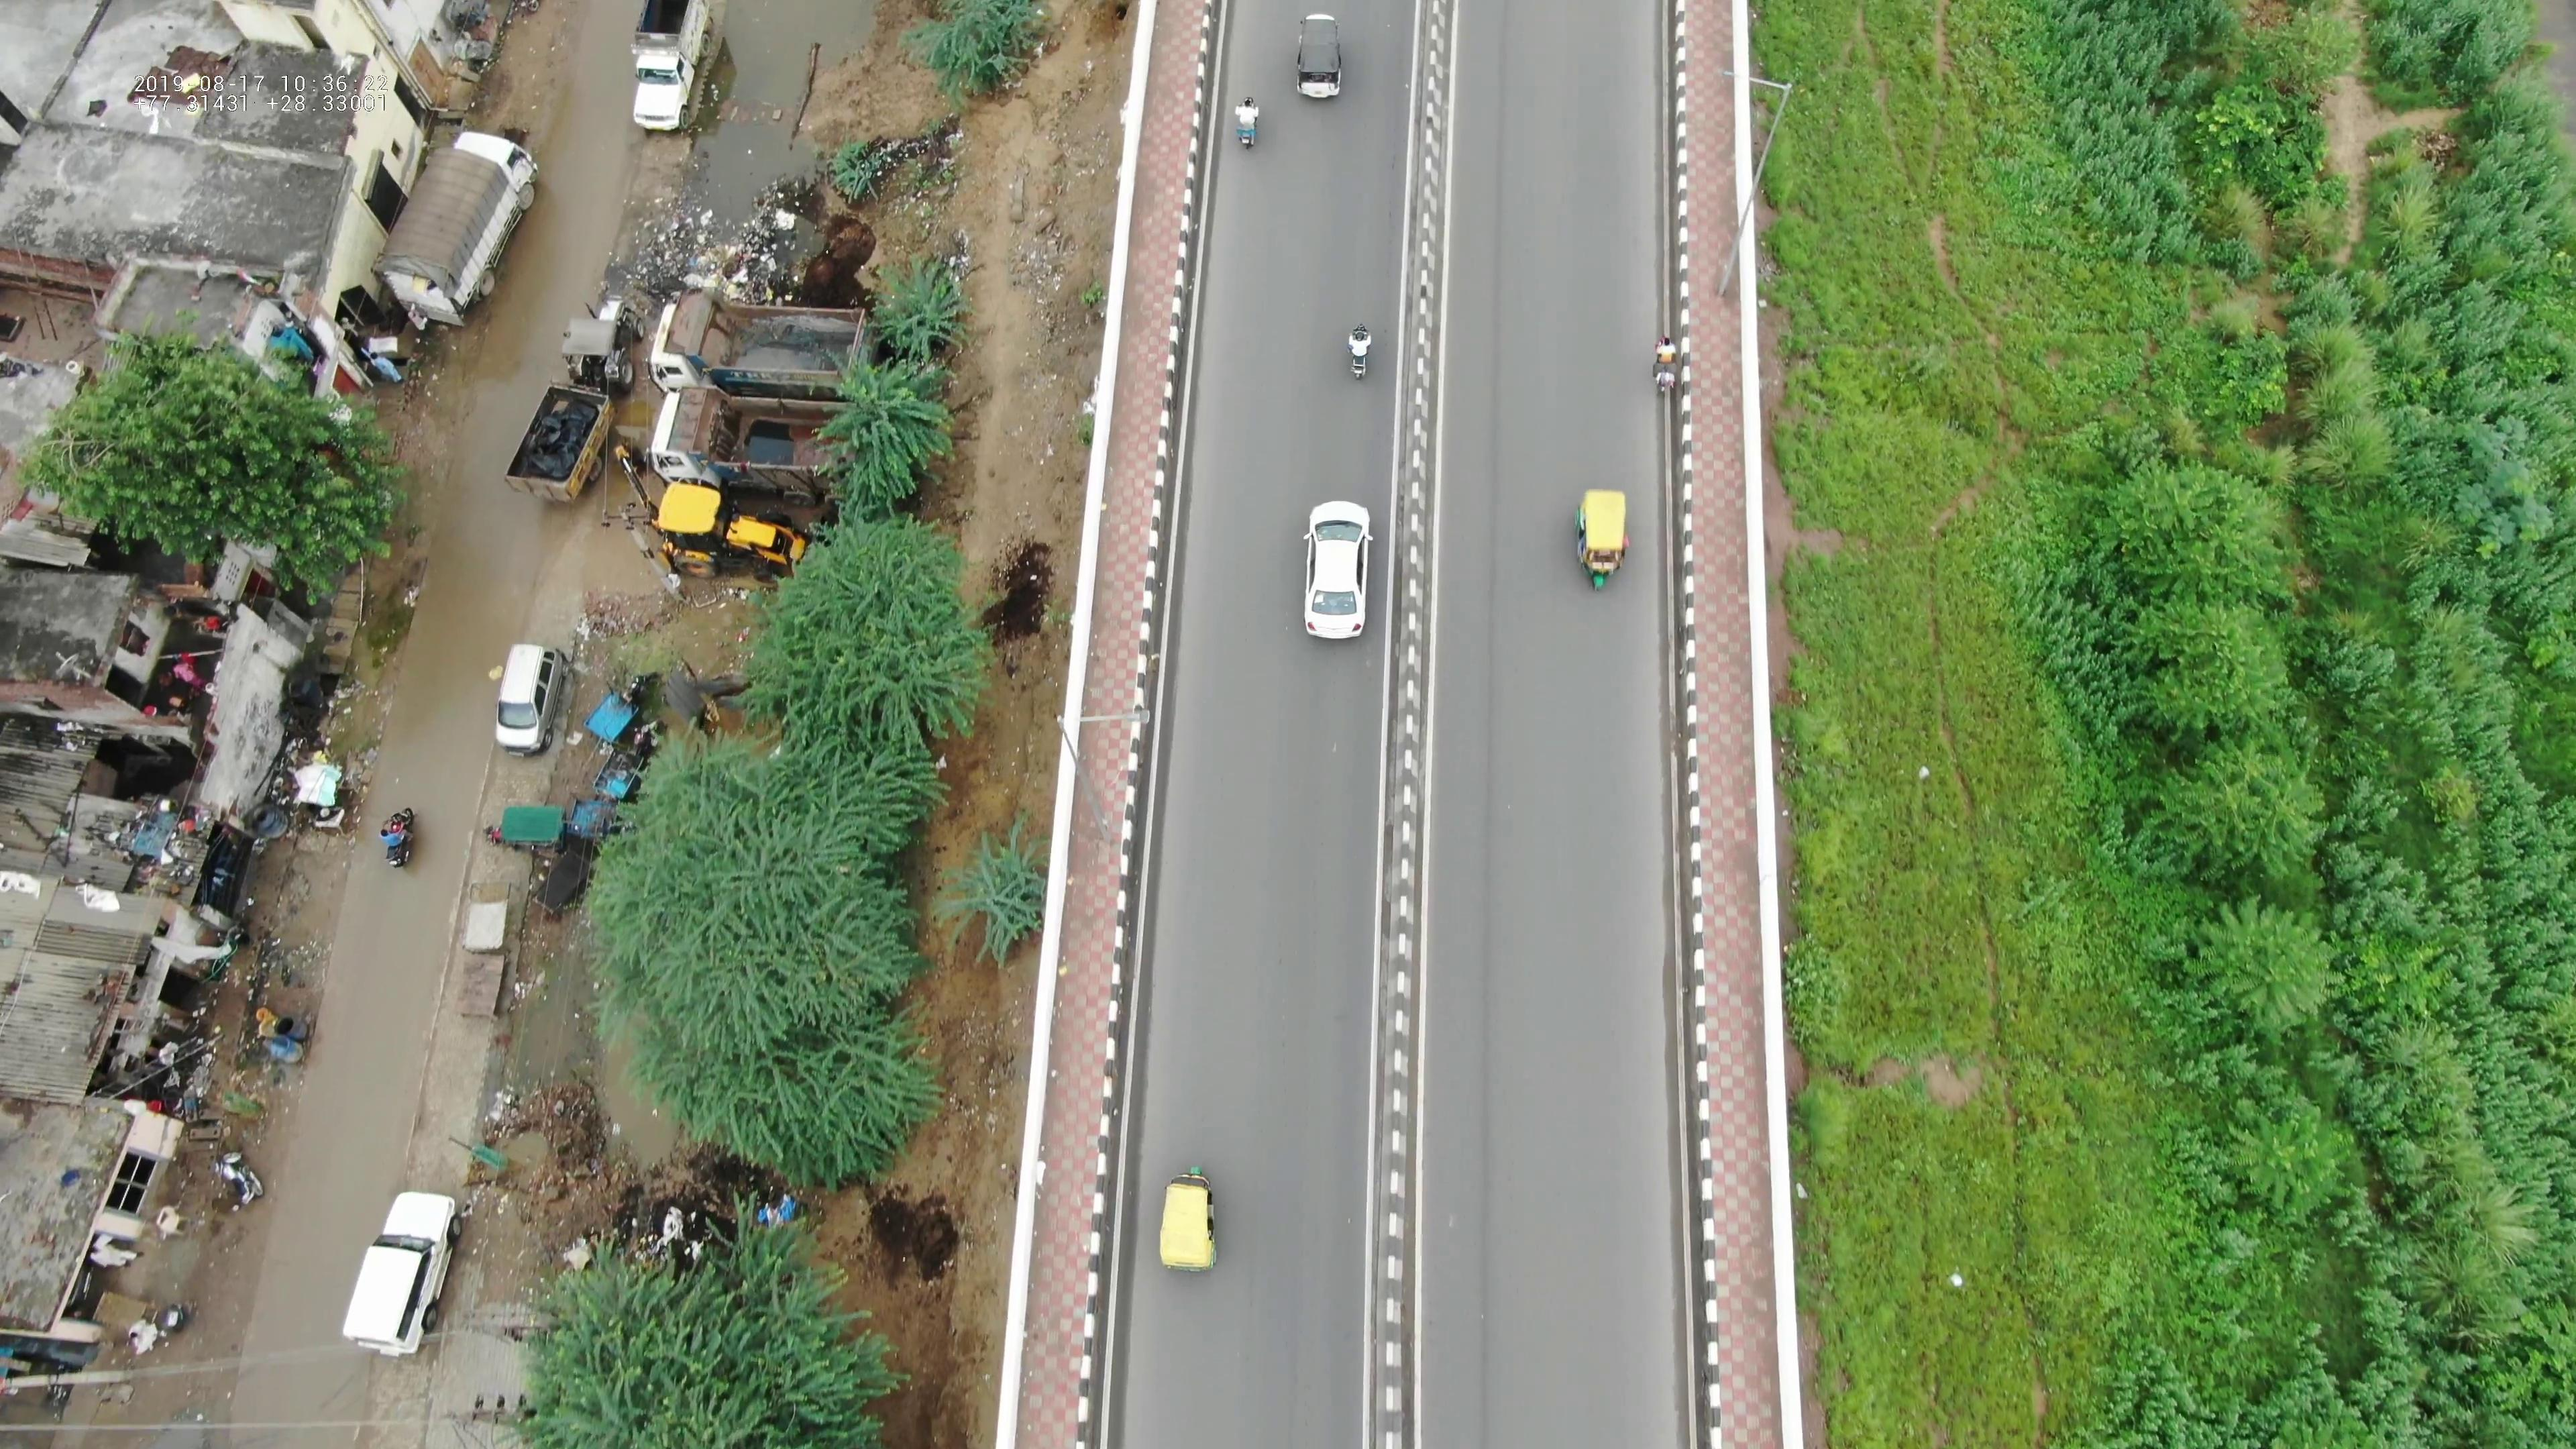Waterlogging: (226, 1021, 430, 1430), (400, 308, 586, 635), (632, 9, 855, 272), (324, 692, 485, 1010)
